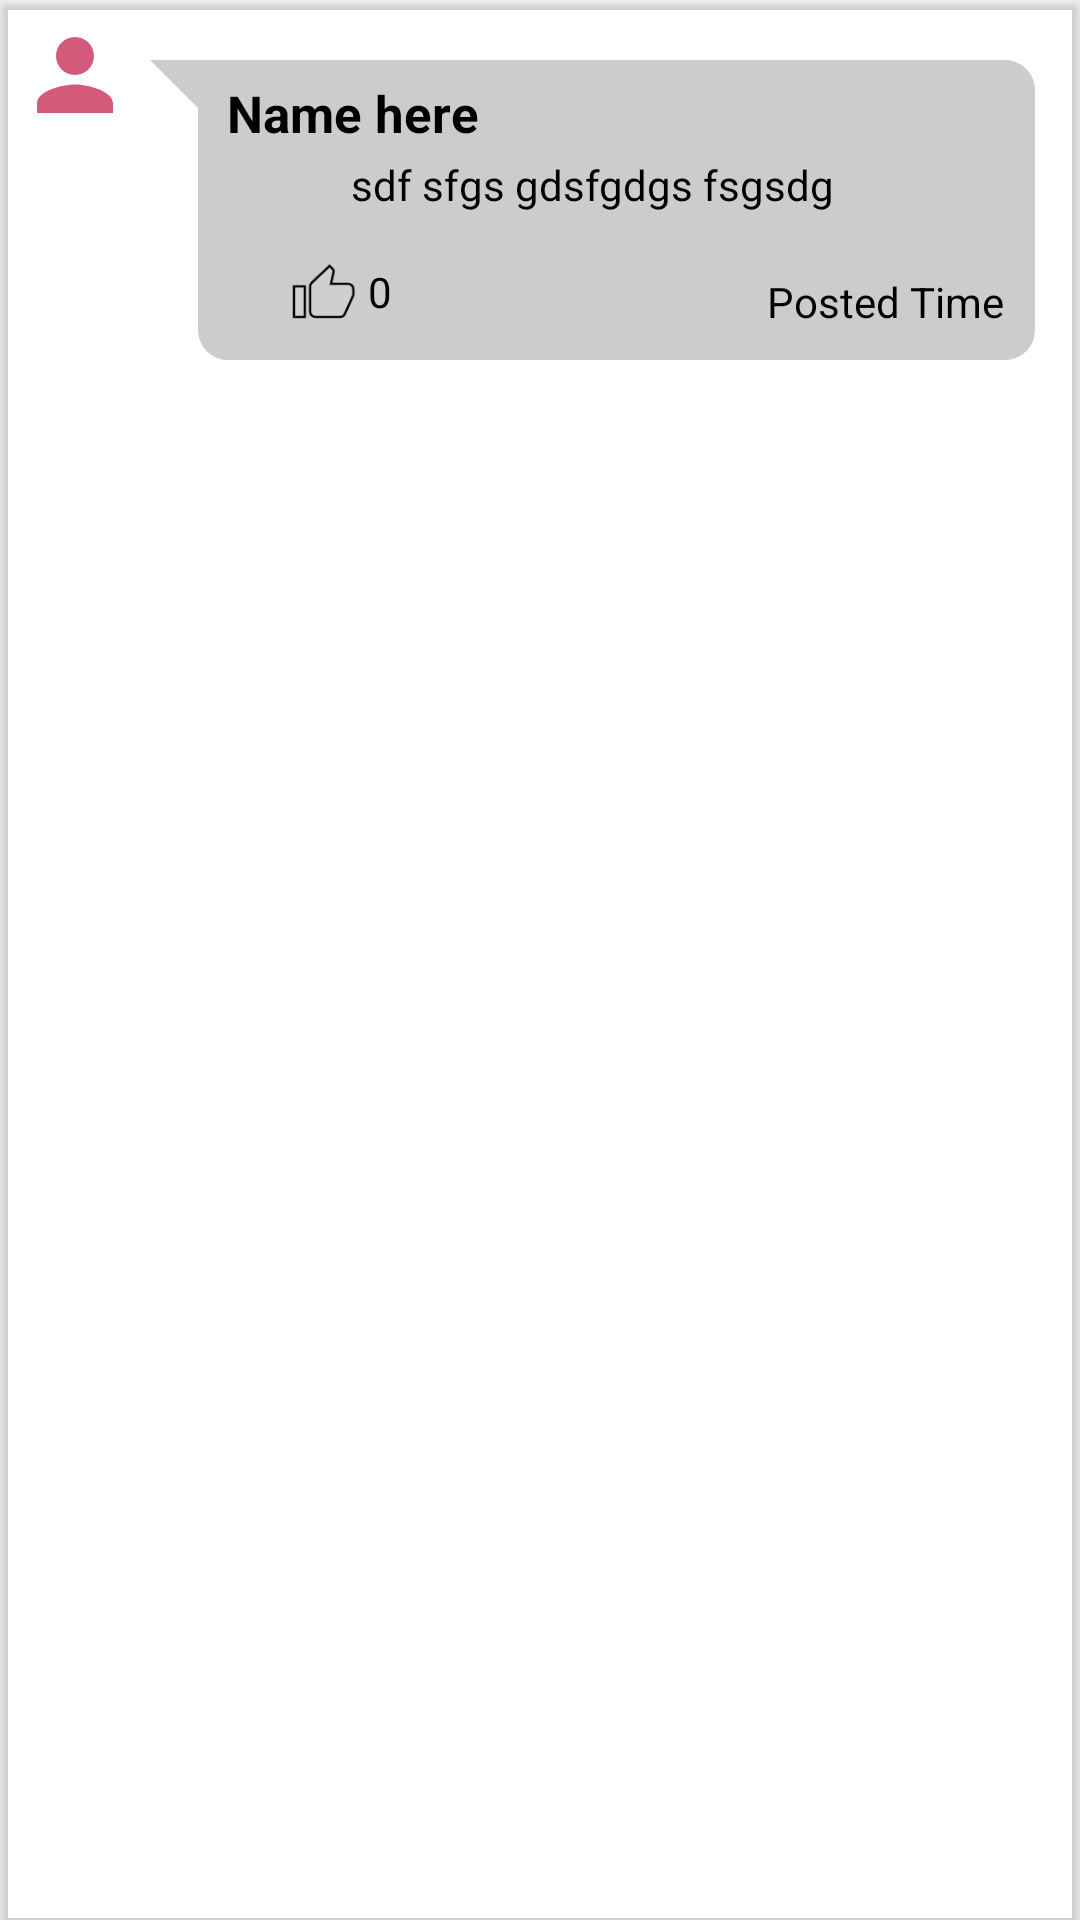

Icons on this 1080 x 1920 Android screen, each with the point to tap as (x=x, y=y):
person: (x=56, y=57)
